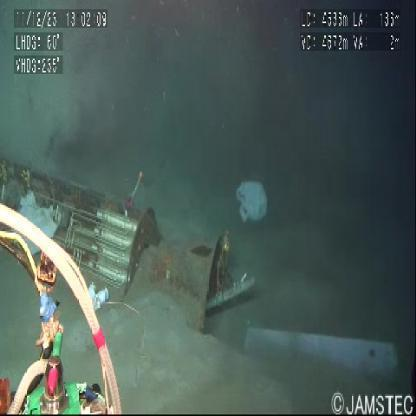Rác: (18, 191, 65, 257), (236, 182, 269, 225)
